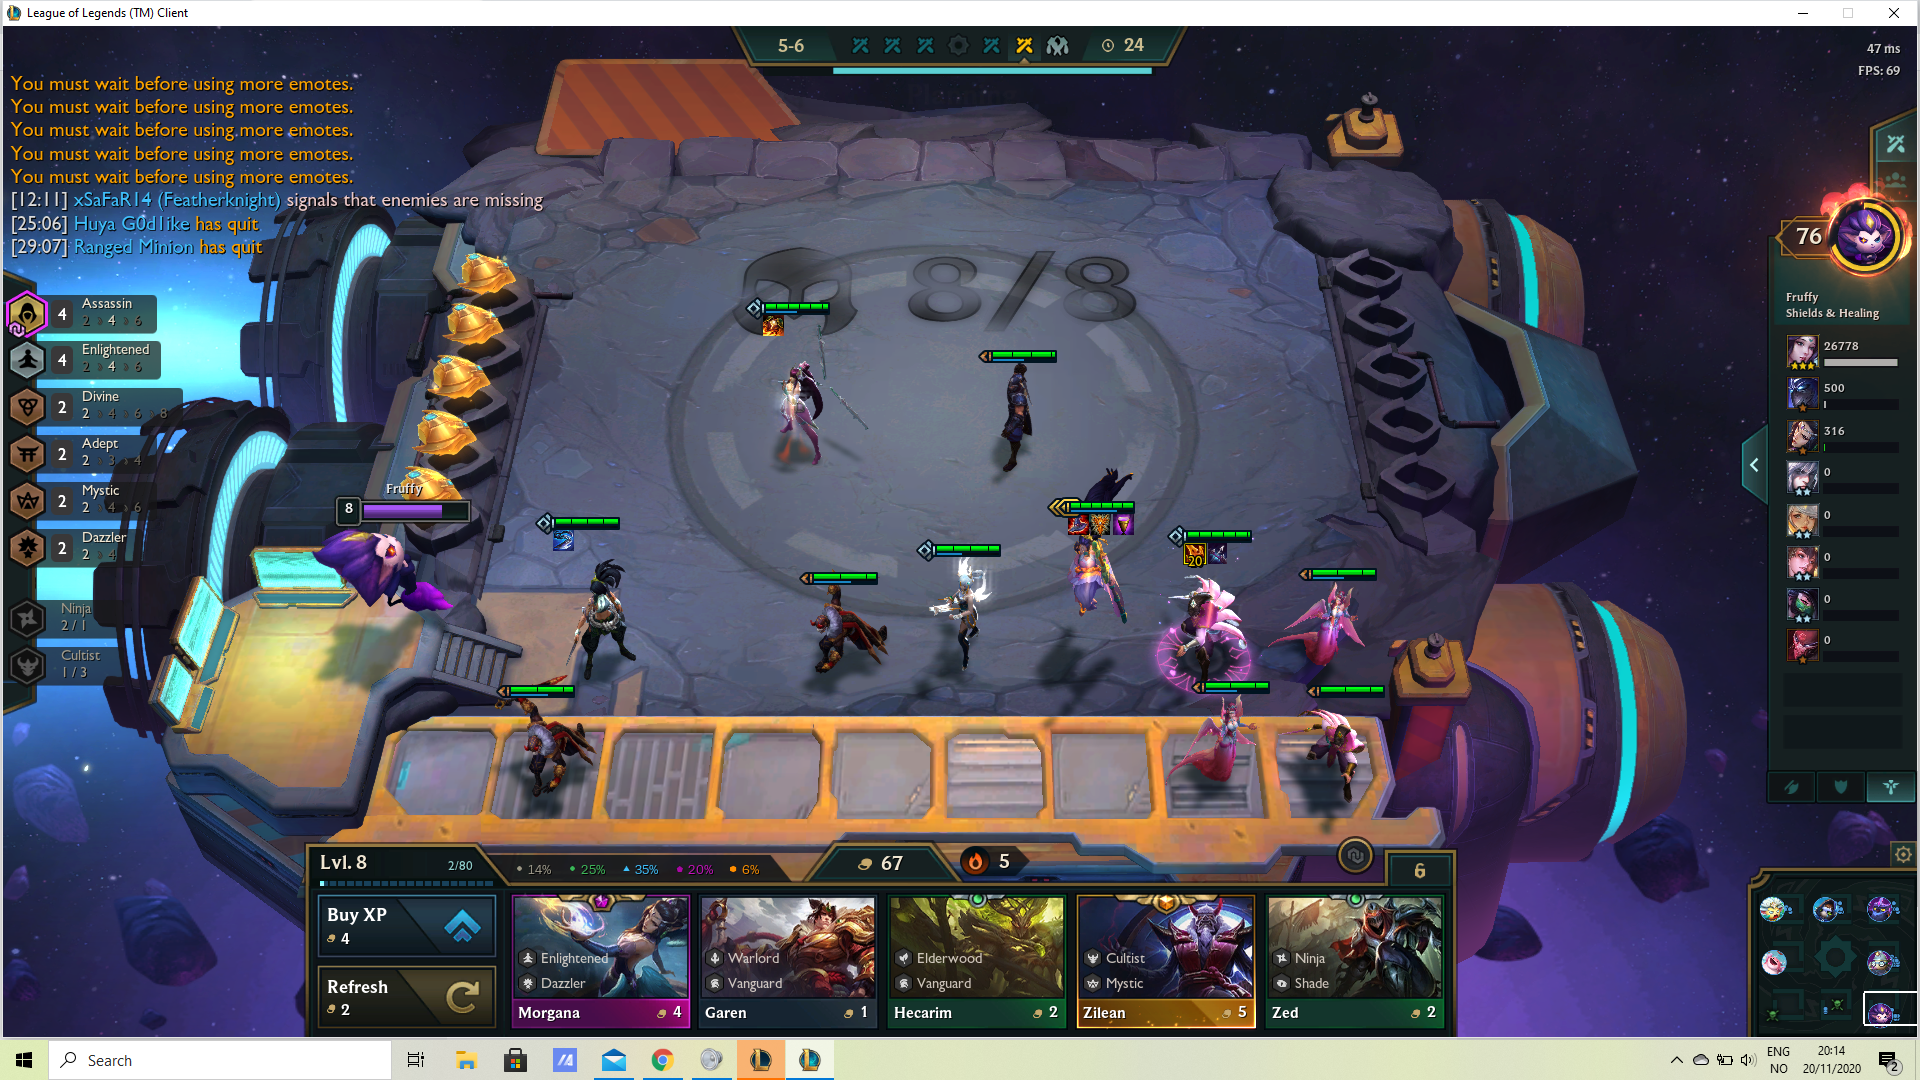1star_morgana: (1257, 549, 1391, 694), (1163, 671, 1278, 811)
1star_pyke: (487, 667, 603, 807), (785, 560, 899, 700)
1star_shen: (956, 339, 1073, 496)
1star_talon: (1278, 674, 1393, 814)
2star_akali: (529, 505, 647, 690)
2star_lux: (909, 531, 1014, 684)
2star_talon: (1149, 521, 1271, 702)
3star_janna: (1034, 455, 1151, 654)
item_chalice: (1109, 506, 1135, 539)
item_deathblade: (1182, 537, 1208, 570)
item_giantslayer: (551, 522, 578, 555)
item_lastwhisper: (1203, 537, 1230, 570)
item_locket: (1087, 506, 1113, 541)
item_rabadon: (1065, 506, 1092, 539)
item_sunfire: (760, 309, 787, 342)
trait_adept2: (1, 430, 198, 475)
trait_assassin4: (1, 285, 198, 340)
trait_assassin_chosen: (1, 286, 51, 339)
trait_cultist1: (1, 642, 198, 687)
trait_dazzler2: (1, 525, 198, 570)
trait_divine2: (1, 384, 198, 429)
trait_enlightened4: (1, 339, 198, 384)
trait_mystic2: (1, 477, 198, 524)
trait_ninja2: (1, 597, 198, 642)
